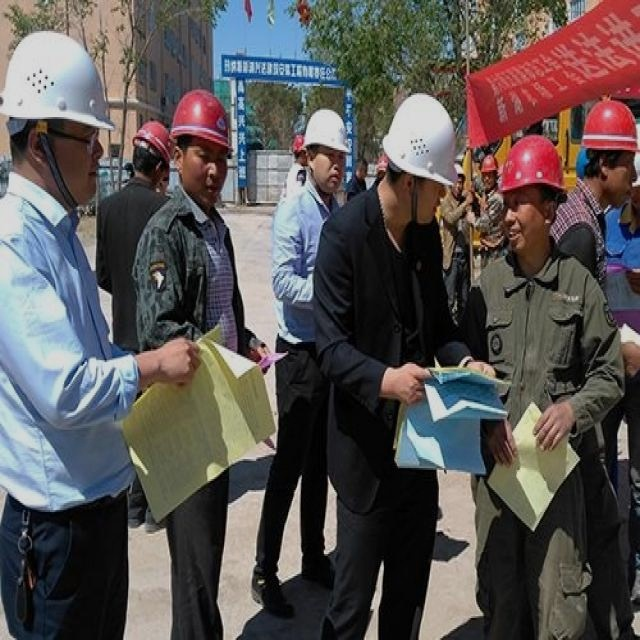Con_Casco: (381, 92, 457, 220), (303, 104, 351, 197)
